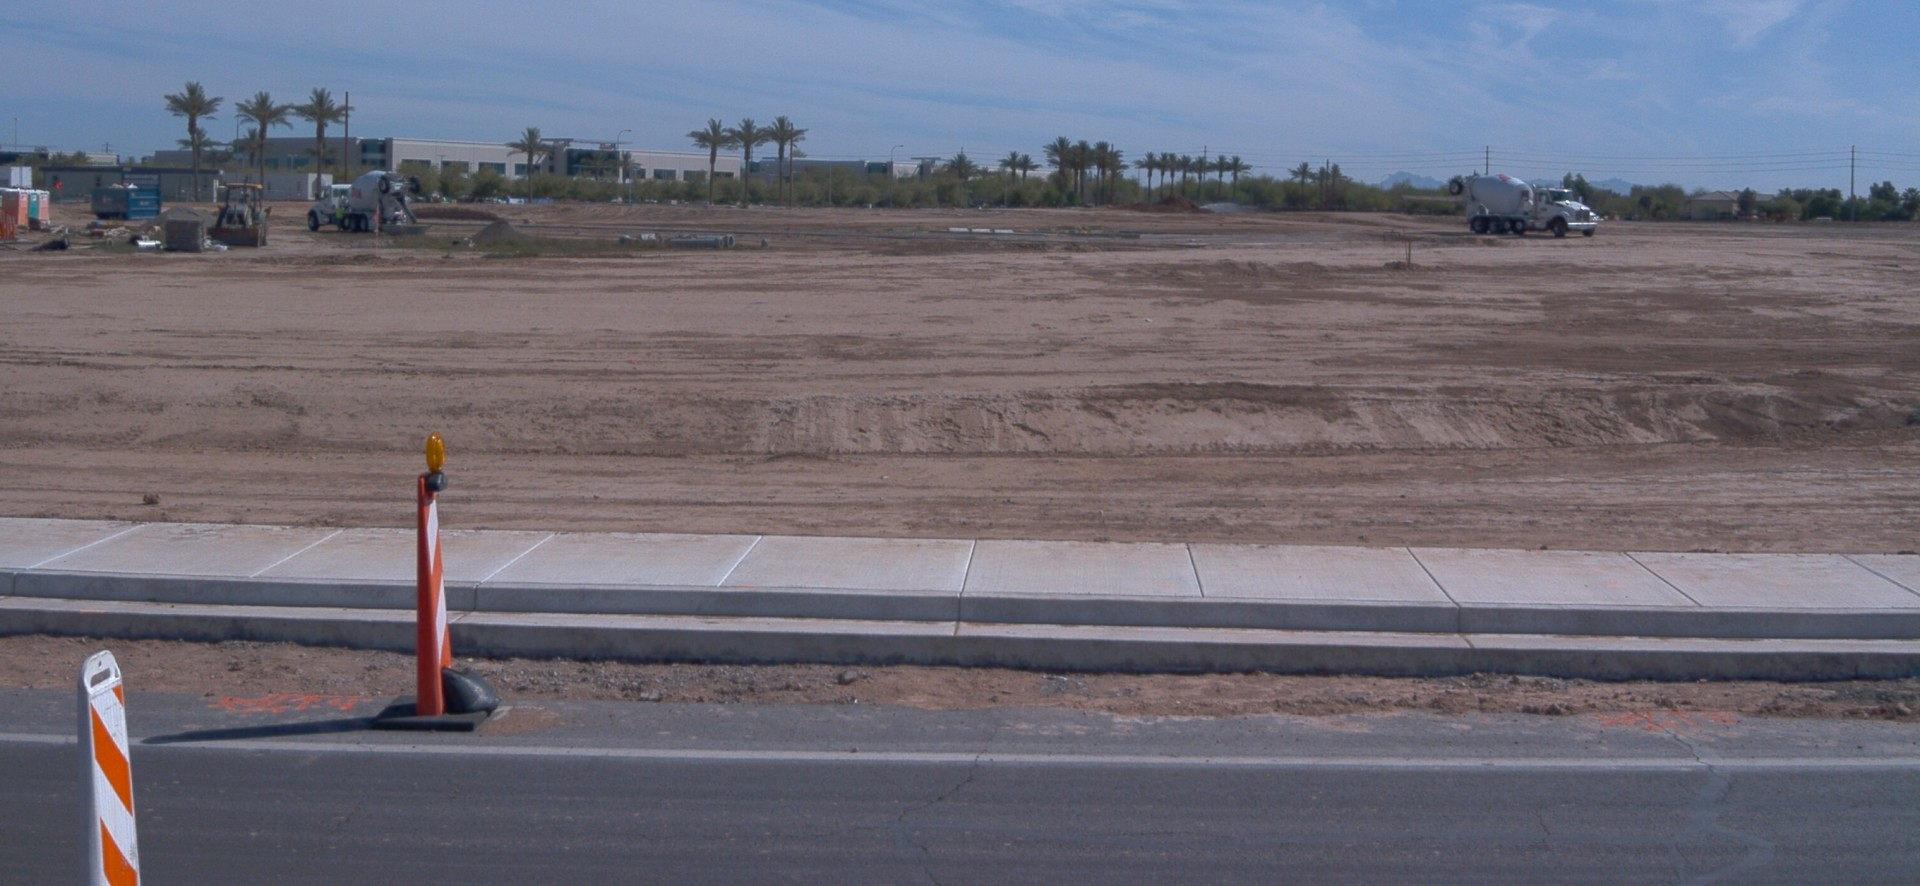TYPE_PEDESTRIAN: (330, 200, 347, 232)
TYPE_VEHICLE: (1447, 166, 1599, 237), (304, 169, 421, 235), (210, 180, 277, 246), (0, 160, 33, 196)
